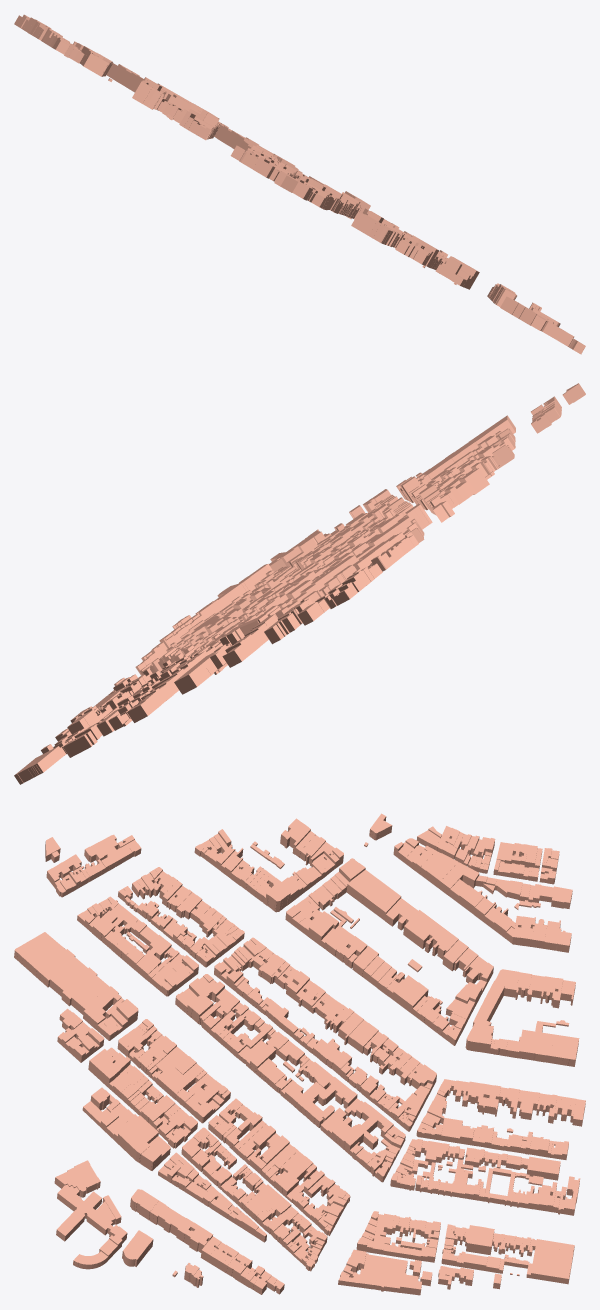
3 renders of one model, top to bottom at view 1: azimuth 30°, elevation 25°; view 2: azimuth 150°, elevation 25°; view 3: azimuth 270°, elevation 25°, orthographic. The views are drawn at different scales.
Size of the model in its own units: 513 by 398 by 670.
